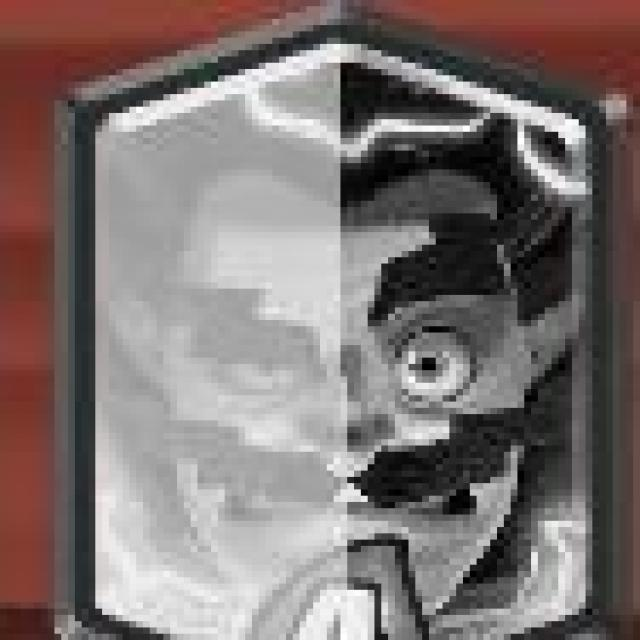Electro_Wizard: (56, 7, 613, 640)
